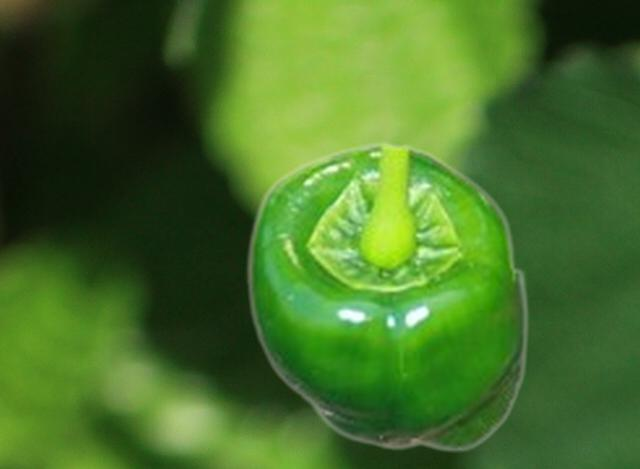bell_pepper: (244, 140, 529, 452)
